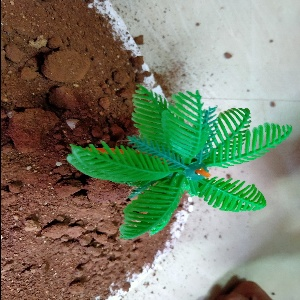plant: (67, 84, 295, 236)
